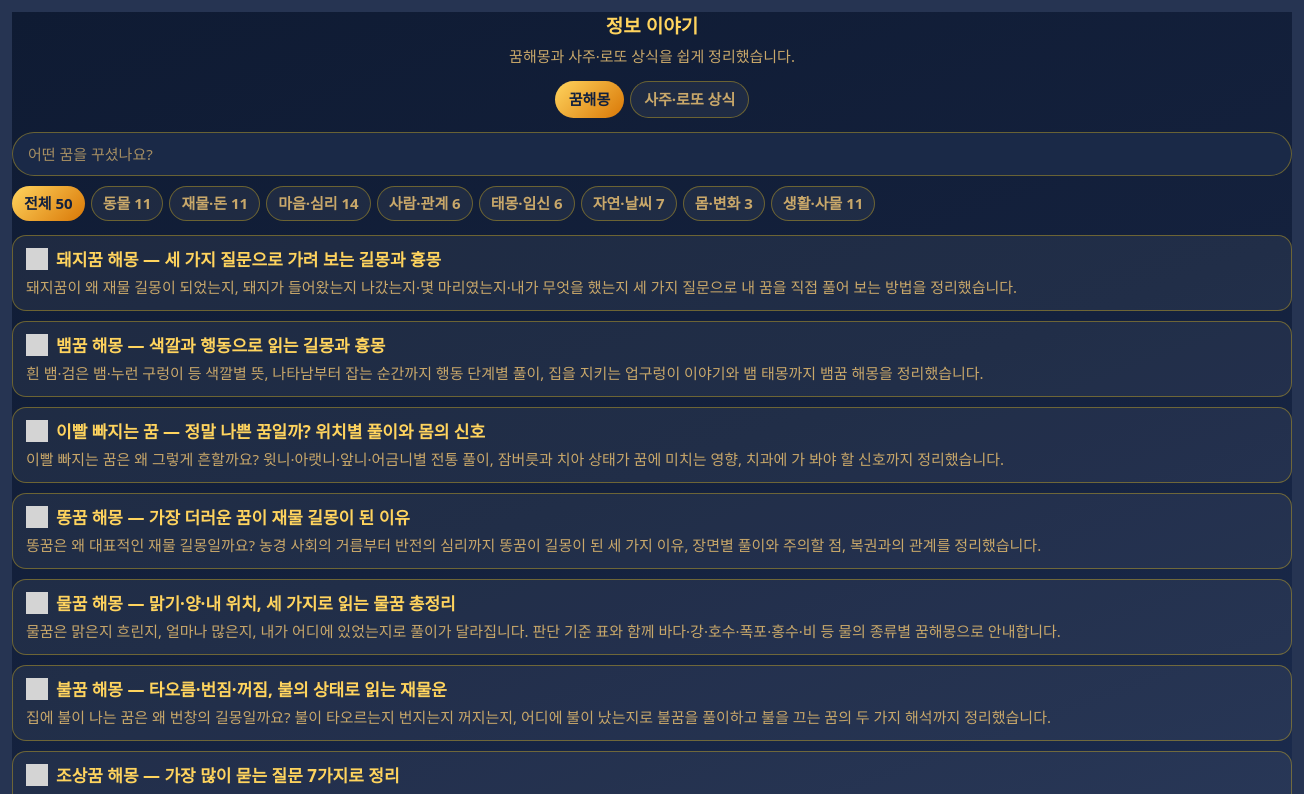
Test case: 태그 칩으로 글 목록을 걸러낸다
Click the link with class "tag-chip" showing "동물 11".
click(127, 203)  # box [91,186,163,220]
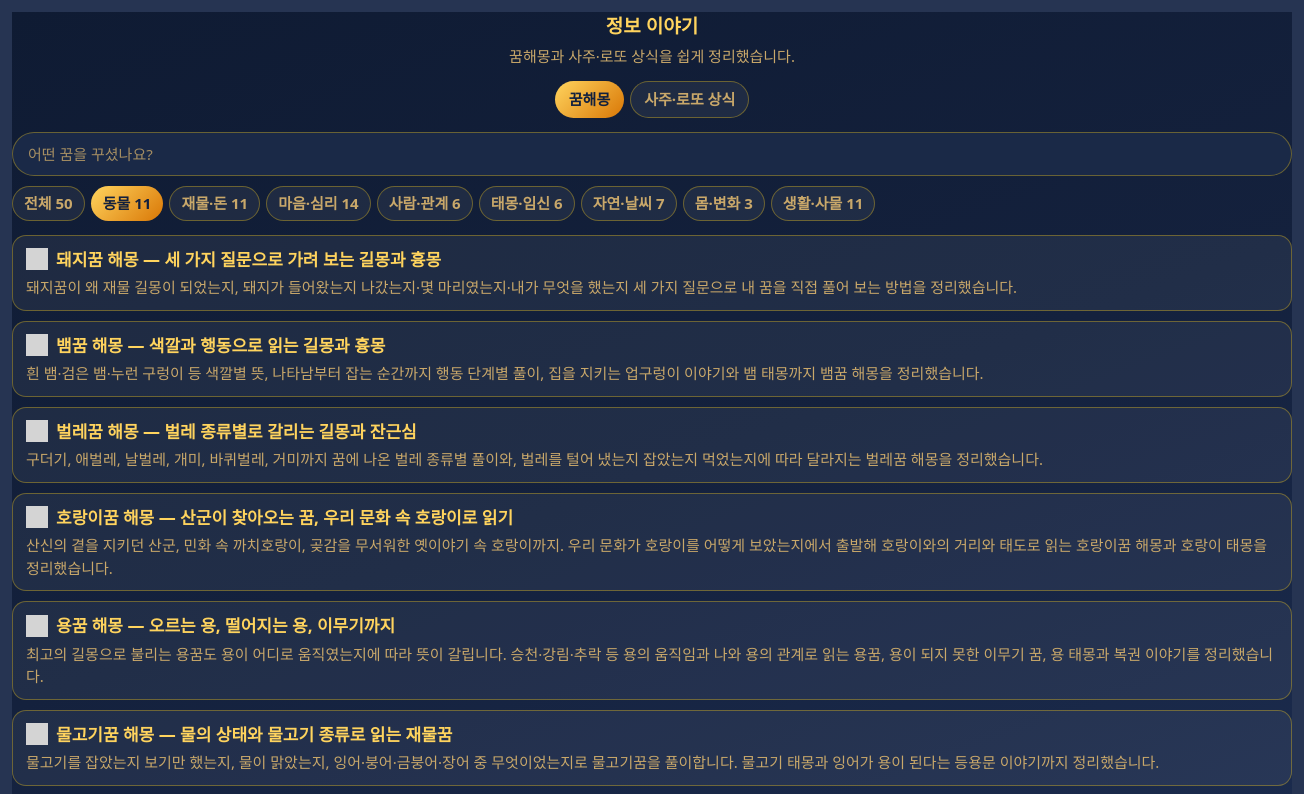
Expected: the number of list items is 11
// 한 번 더 누르면 전체로 돌아온다
Click the link with class "tag-chip" showing "동물 11".
click(127, 203)  # box [91,186,163,220]
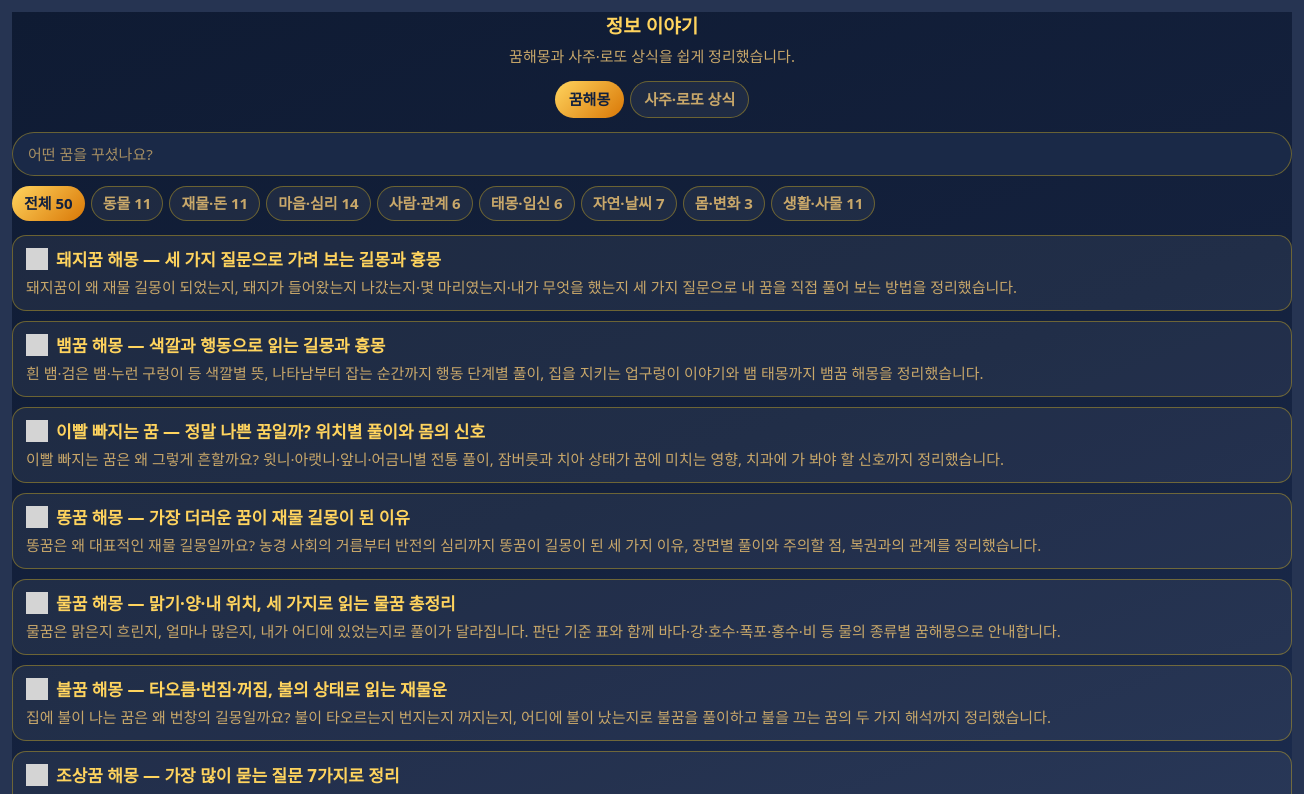
Expected: the number of list items is 50
